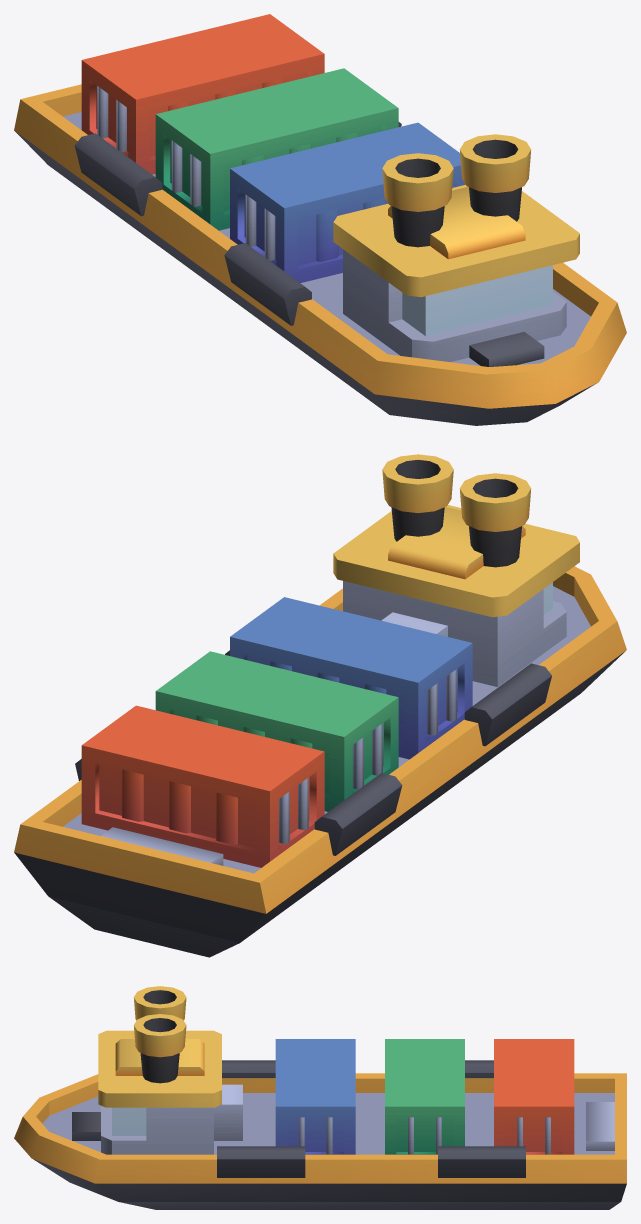
Rendered from ship-cargo-a.glb.
3 views of the same model, one above another, from view 1: azimuth 30°, elevation 25°; view 2: azimuth 150°, elevation 25°; view 3: azimuth 270°, elevation 25° (orthographic). The views are drawn at different scales.
Visible parts, largest first — view 1: ship-cargo-a, cargo-b, cargo-c, cargo-a; view 2: ship-cargo-a, cargo-c, cargo-a, cargo-b; view 3: ship-cargo-a, cargo-a, cargo-c, cargo-b.
Boxes of the visible parts, x1=… form: ship-cargo-a: x1=14, y1=84, x2=626, y2=425; cargo-b: x1=155, y1=68, x2=398, y2=230; cargo-c: x1=81, y1=14, x2=324, y2=174; cargo-a: x1=230, y1=122, x2=465, y2=282; ship-cargo-a: x1=14, y1=454, x2=626, y2=957; cargo-c: x1=81, y1=705, x2=324, y2=867; cargo-a: x1=230, y1=597, x2=472, y2=759; cargo-b: x1=155, y1=651, x2=398, y2=811; ship-cargo-a: x1=14, y1=986, x2=626, y2=1209; cargo-a: x1=275, y1=1039, x2=355, y2=1154; cargo-c: x1=494, y1=1039, x2=574, y2=1154; cargo-b: x1=385, y1=1039, x2=464, y2=1154.
Size of the model in its own units: 3.92 by 3.38 by 10.55.
1 material, 1 textured.
